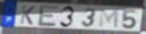3: (58, 6, 78, 29), (81, 8, 98, 28)
5: (122, 9, 139, 30)
E: (38, 4, 59, 27)
K: (19, 5, 36, 26)
M: (98, 8, 120, 29)
